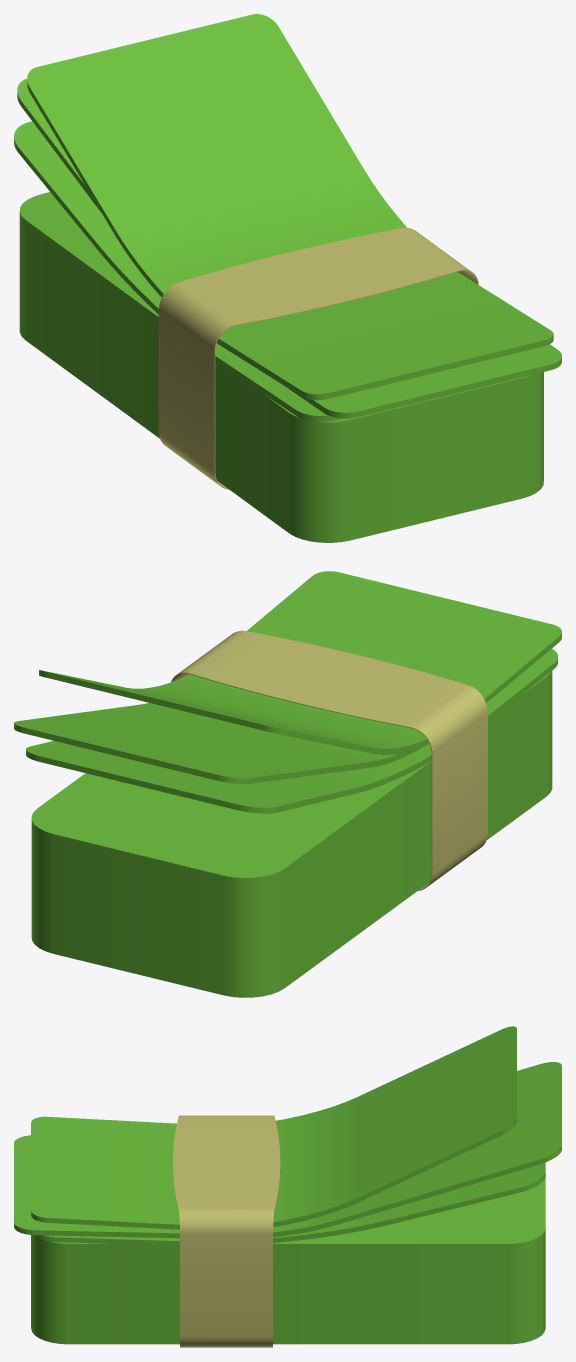
Rendered from para.fbx.
3 views of the same model, one above another, from view 1: azimuth 30°, elevation 25°; view 2: azimuth 150°, elevation 25°; view 3: azimuth 270°, elevation 25° (orthographic). The views are drawn at different scales.
Visible parts, largest first — view 1: Plane.004, Plane, Plane.005, Plane.002, Plane.003; view 2: Plane, Plane.004, Plane.005, Plane.003, Plane.002; view 3: Plane, Plane.004, Plane.005, Plane.003, Plane.002.
Part boxes in pixels (x1,y1,x2,y2): Plane.004: (27, 14, 553, 400); Plane: (19, 192, 543, 542); Plane.005: (158, 227, 478, 489); Plane.002: (14, 121, 341, 421); Plane.003: (17, 78, 561, 418); Plane: (31, 671, 552, 997); Plane.004: (39, 571, 561, 754); Plane.005: (171, 630, 487, 890); Plane.003: (14, 703, 423, 784); Plane.002: (26, 648, 557, 813); Plane: (31, 1176, 545, 1344); Plane.004: (31, 1026, 516, 1229); Plane.005: (173, 1115, 280, 1347); Plane.003: (14, 1062, 561, 1238); Plane.002: (34, 1162, 545, 1245).
Bounding box in the file's own units: 348 × 344 × 750.
